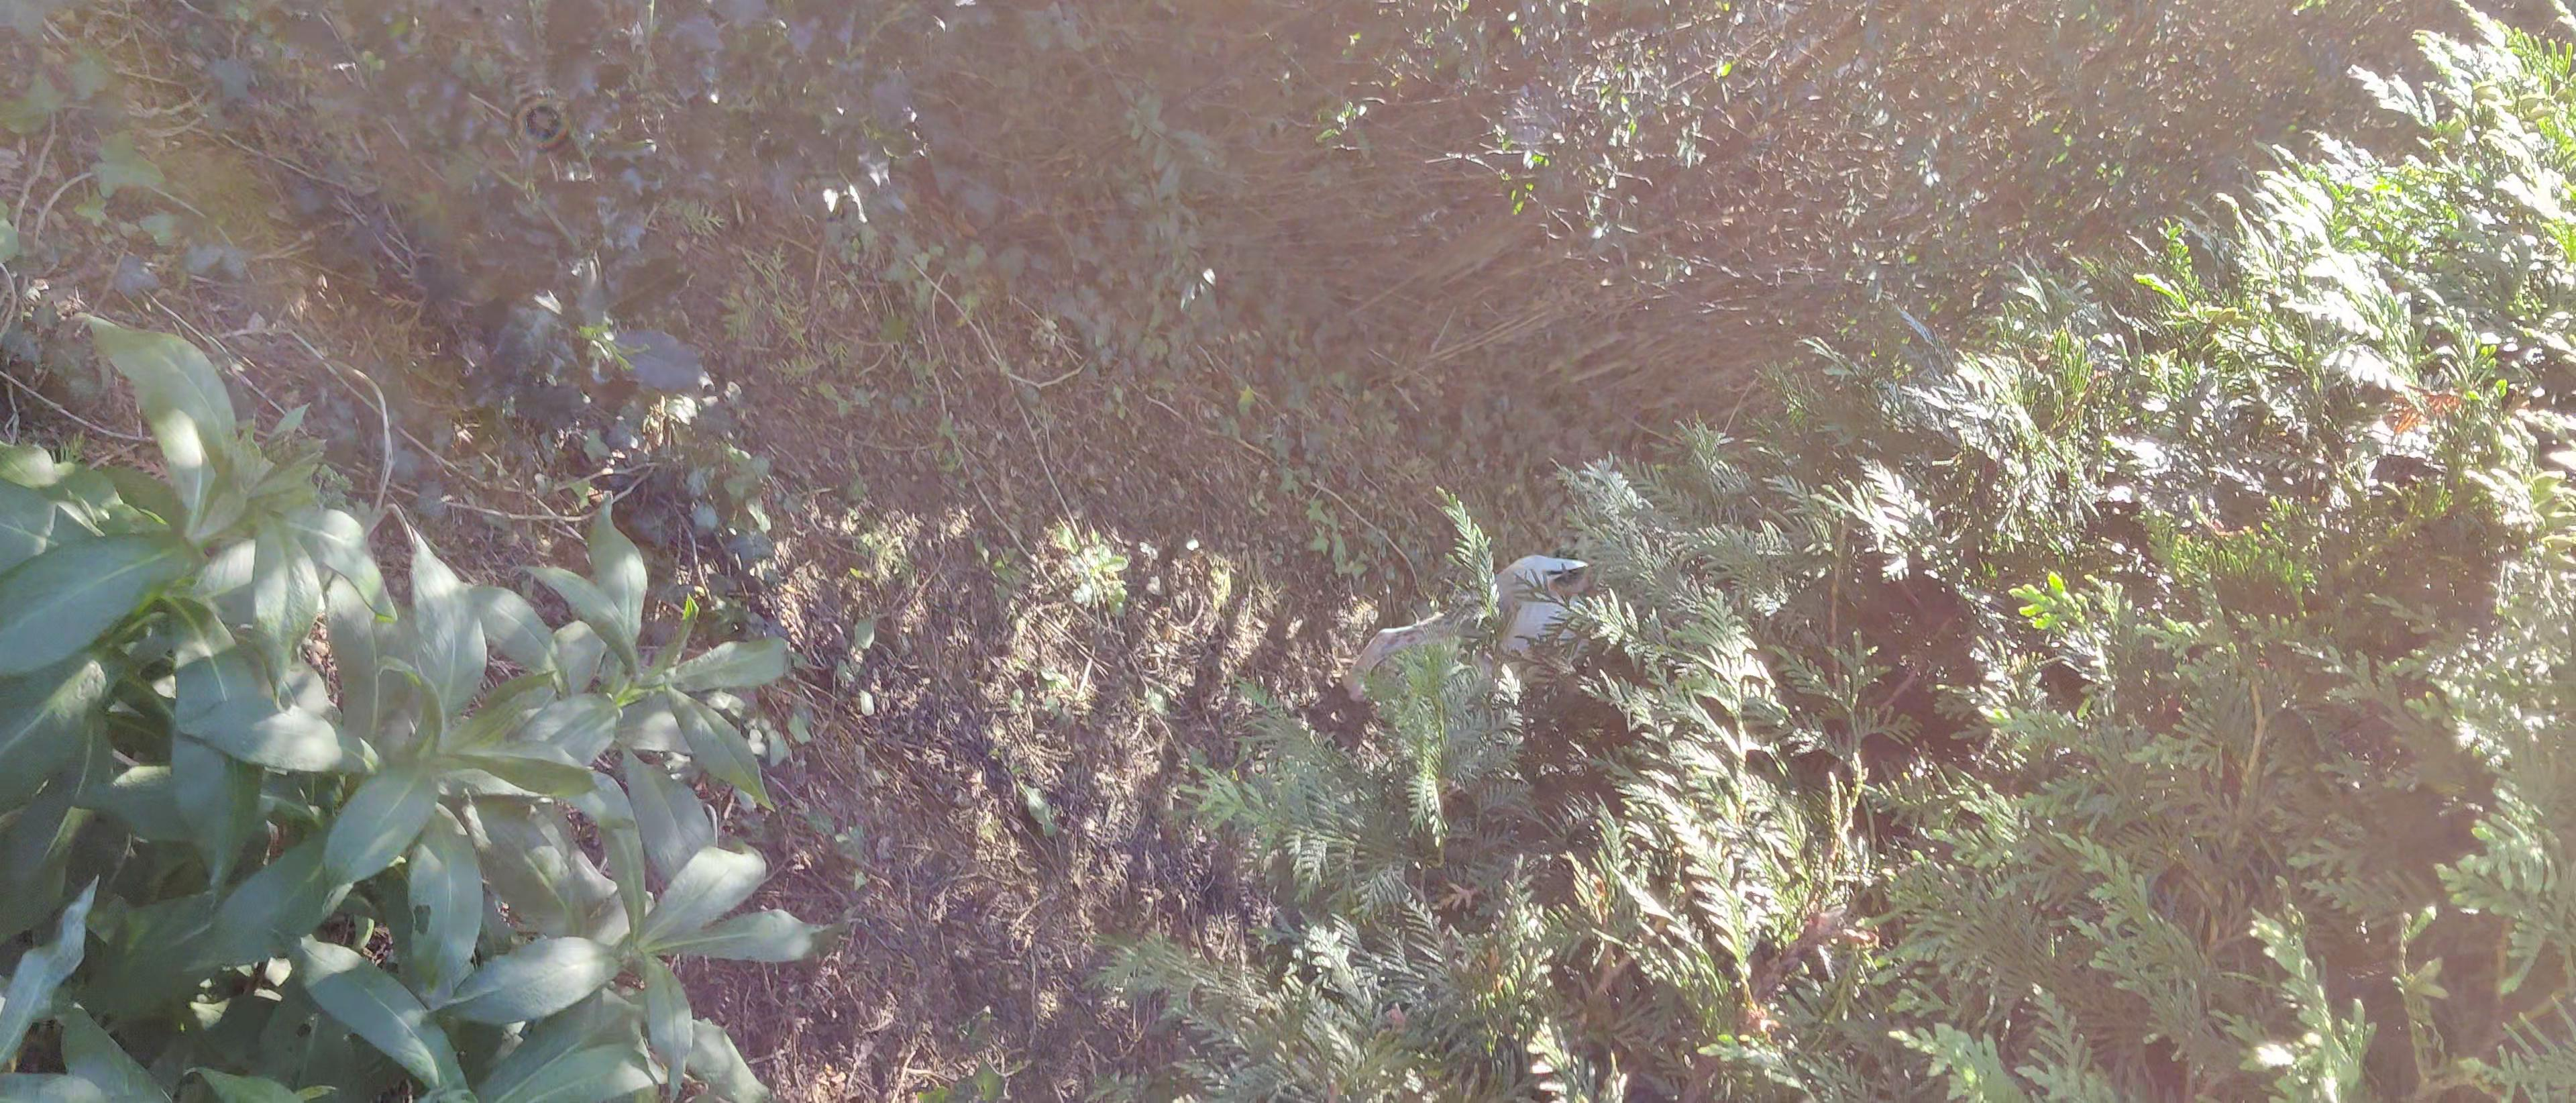Dog: (1336, 552, 1594, 705)
